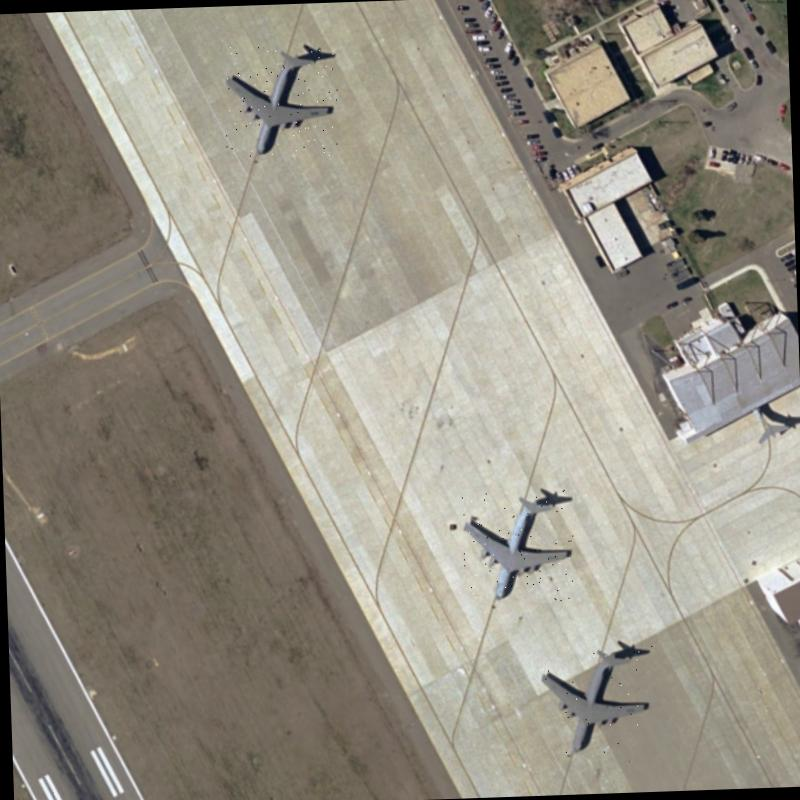A4: (220, 42, 340, 160), (461, 489, 578, 604), (538, 644, 656, 756)
